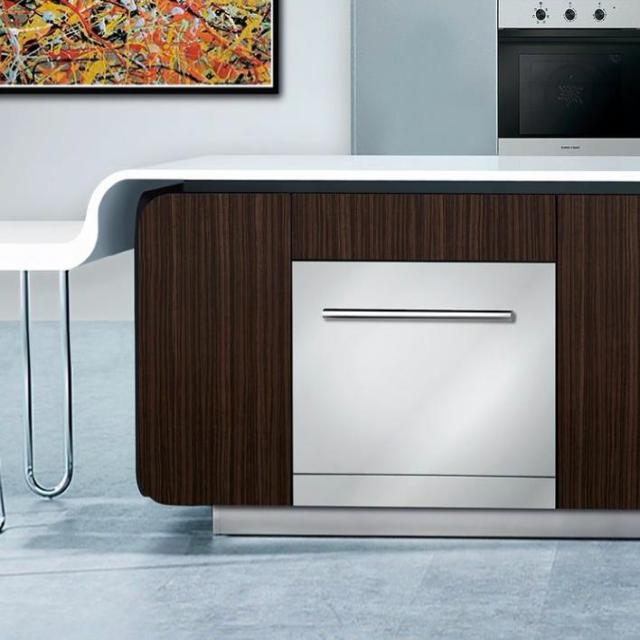dishwasher: (291, 258, 556, 508)
